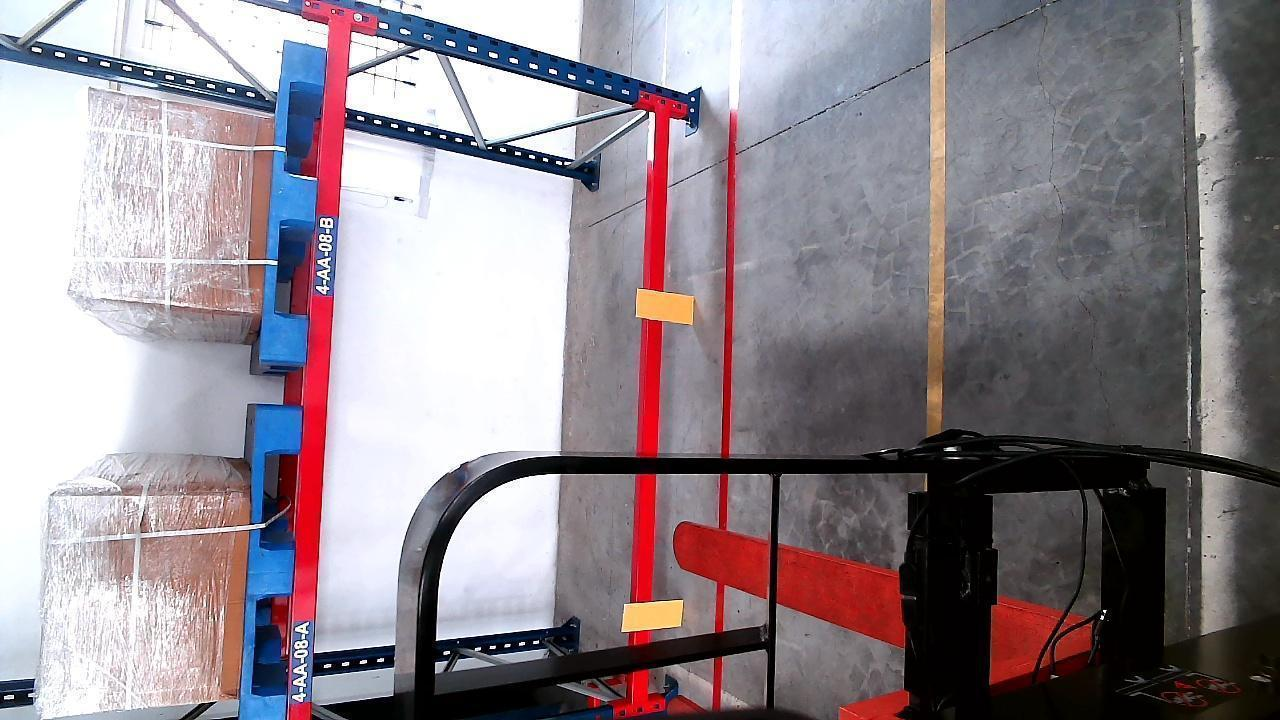red_line: (707, 108, 738, 700)
yellow_line: (925, 7, 949, 425)
